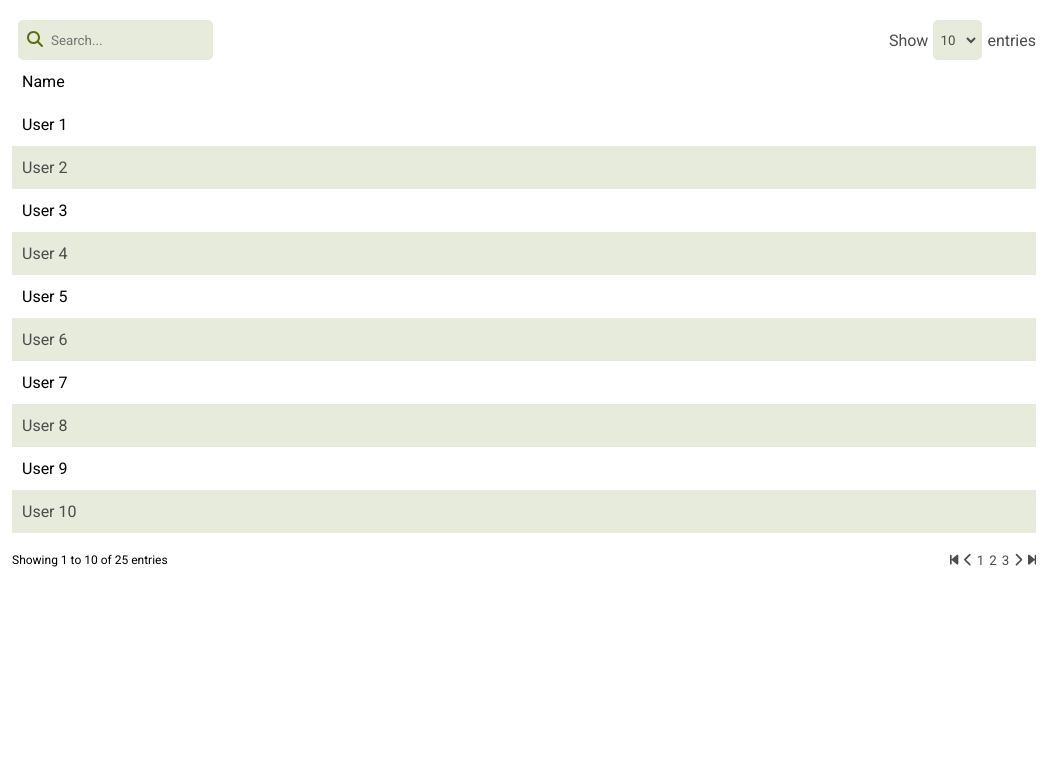
Test: When I click on pagination buttons, then the page changes and entries update accordingly
Click the button with test id "next-page-btn" at (1016,560), box [1009,553,1023,568]
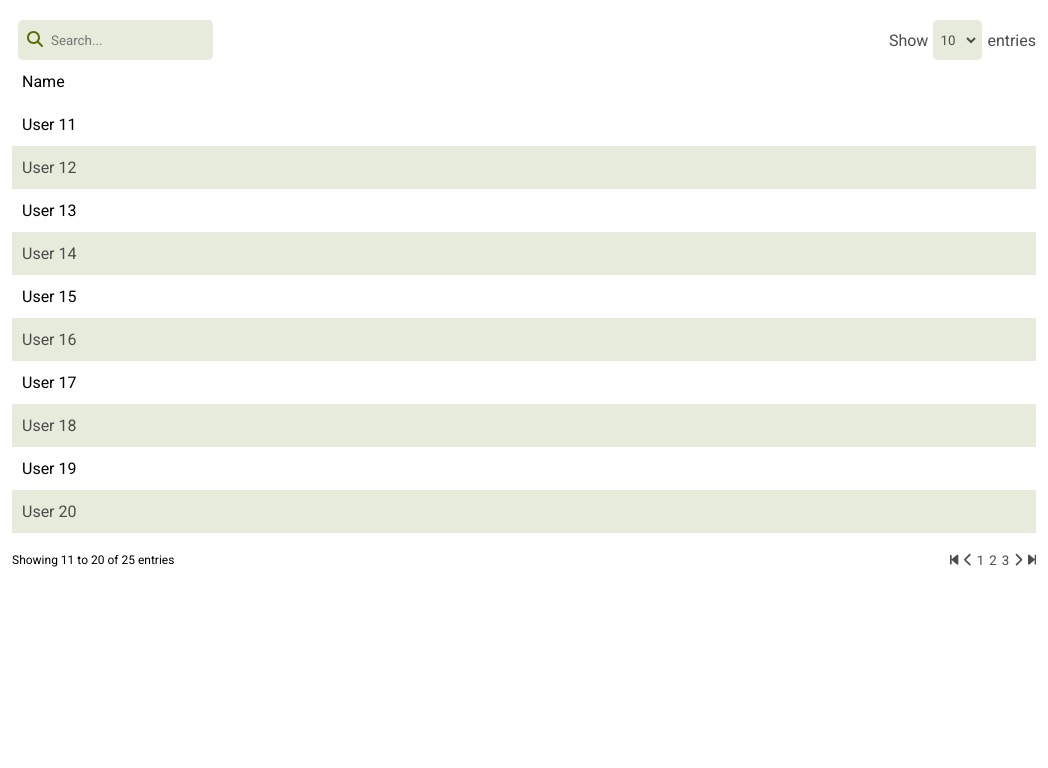
Expected: the text "User 11" is shown, [12,103,1036,146]
